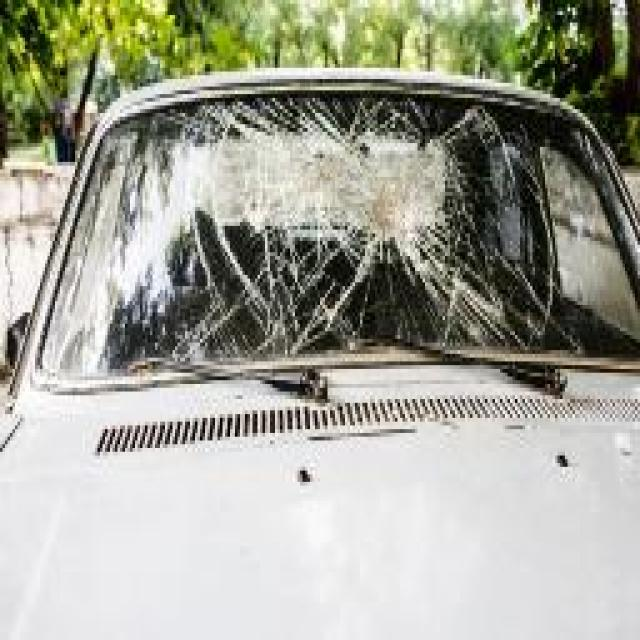Windshield: (42, 72, 640, 354)
